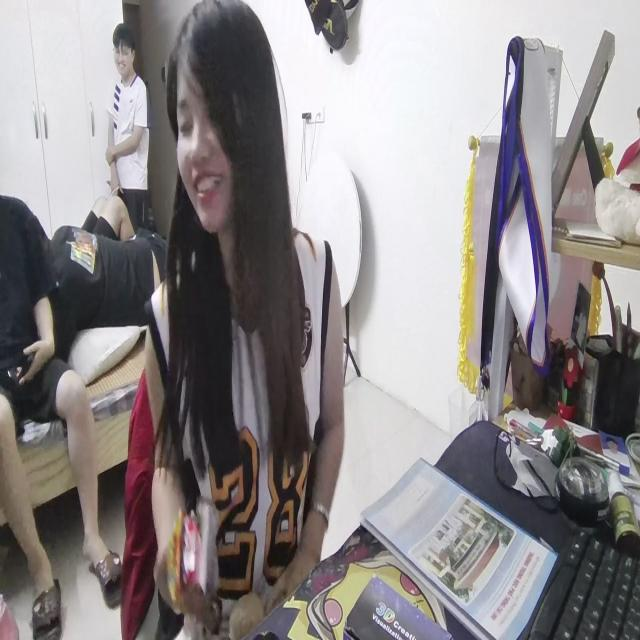book: (358, 449, 560, 640)
extra_person: (0, 189, 129, 624), (101, 30, 157, 236)
student: (141, 0, 356, 640)
